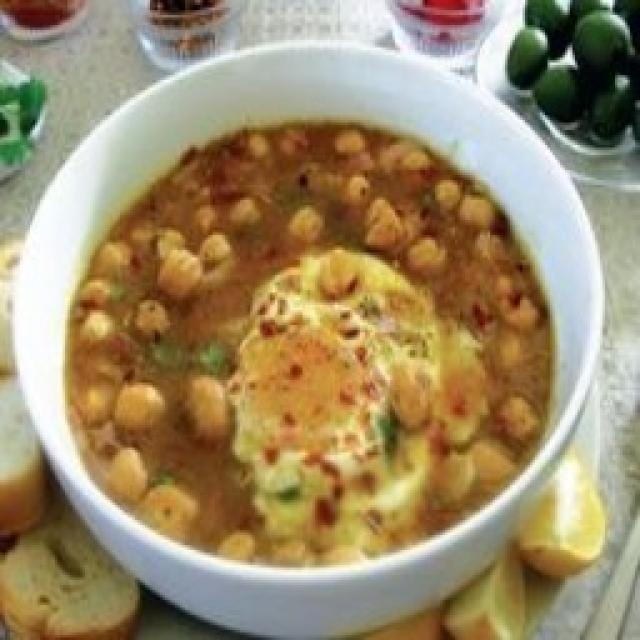Lablabi: (70, 124, 548, 564)
